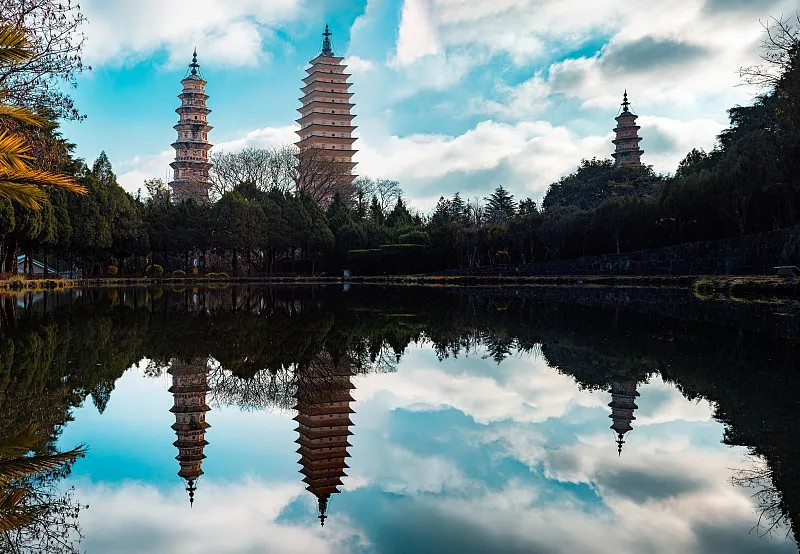ThreePagoda: (292, 23, 358, 191)
